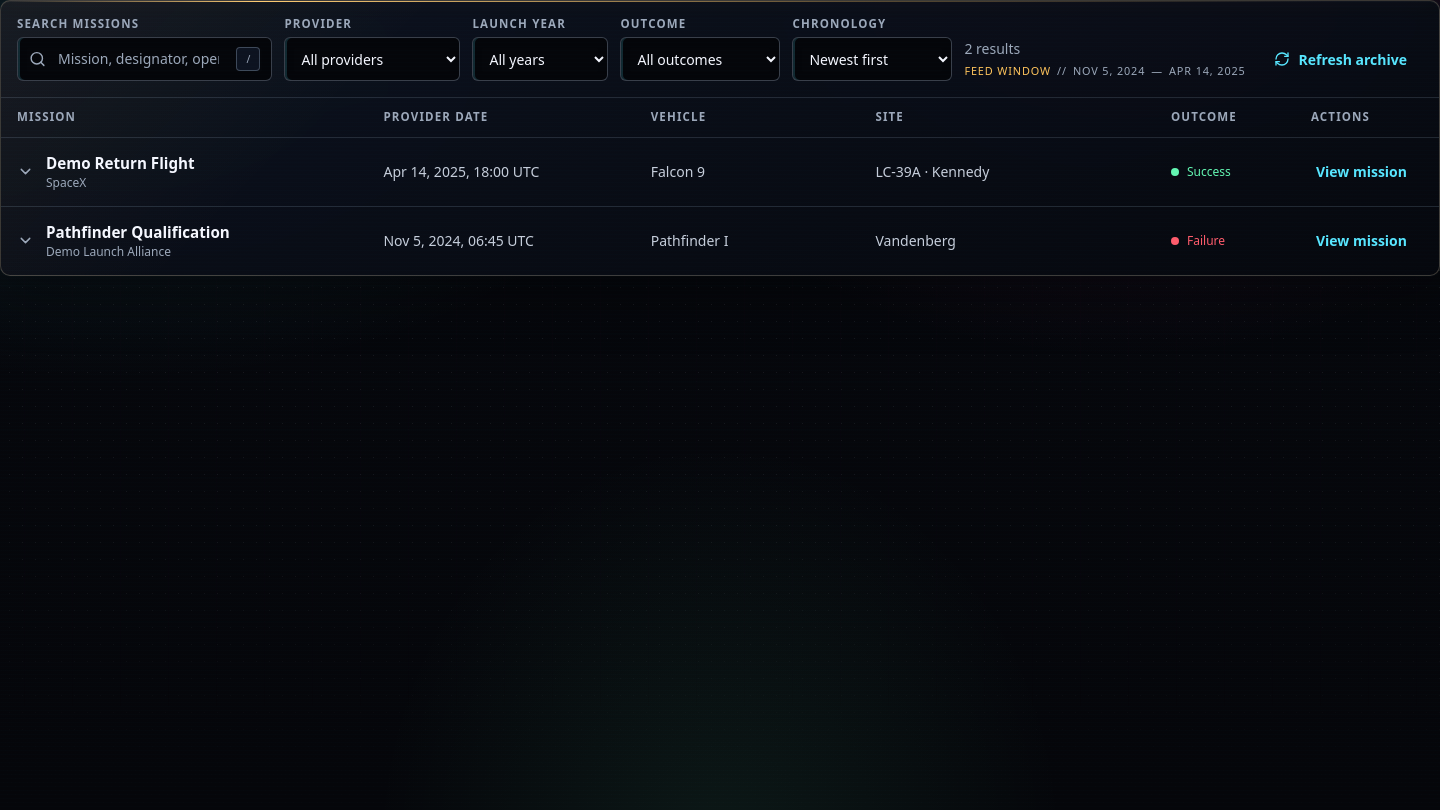
Test: PastLaunches › finds and exposes a provider launch designator without crowding collapsed rows
Type "2024F03" into the search field labelled "Search missions".
click(145, 59); type("2024F03")  # box [17,37,272,81]
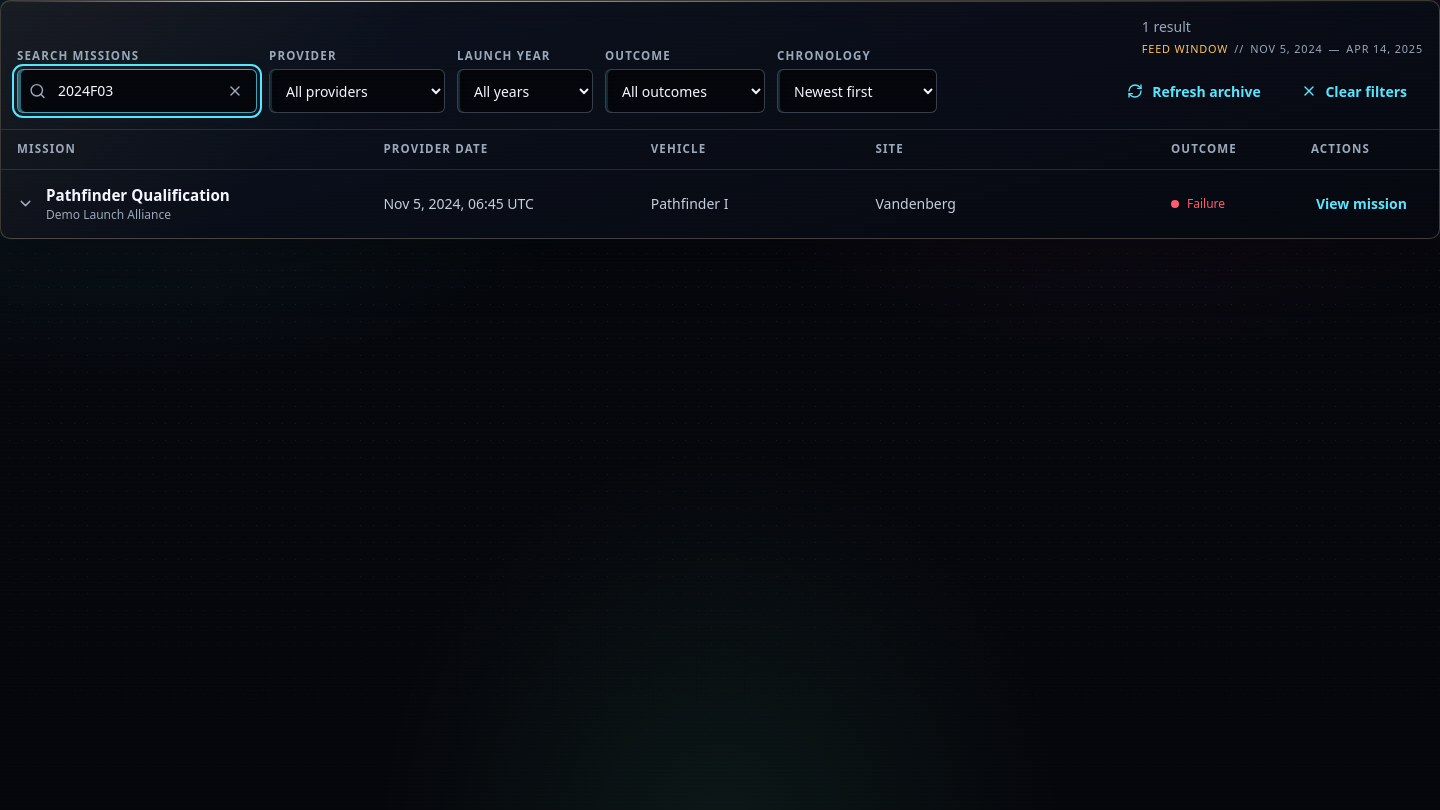
Expected: the text "Pathfinder Qualification" is shown, [46,185,230,205]
Expected: the button "Demo Return Flight" is gone
Click the button with aria-label "Show mission details for Pathfinder Qualification".
click(658, 204)  # box [17,182,1299,226]
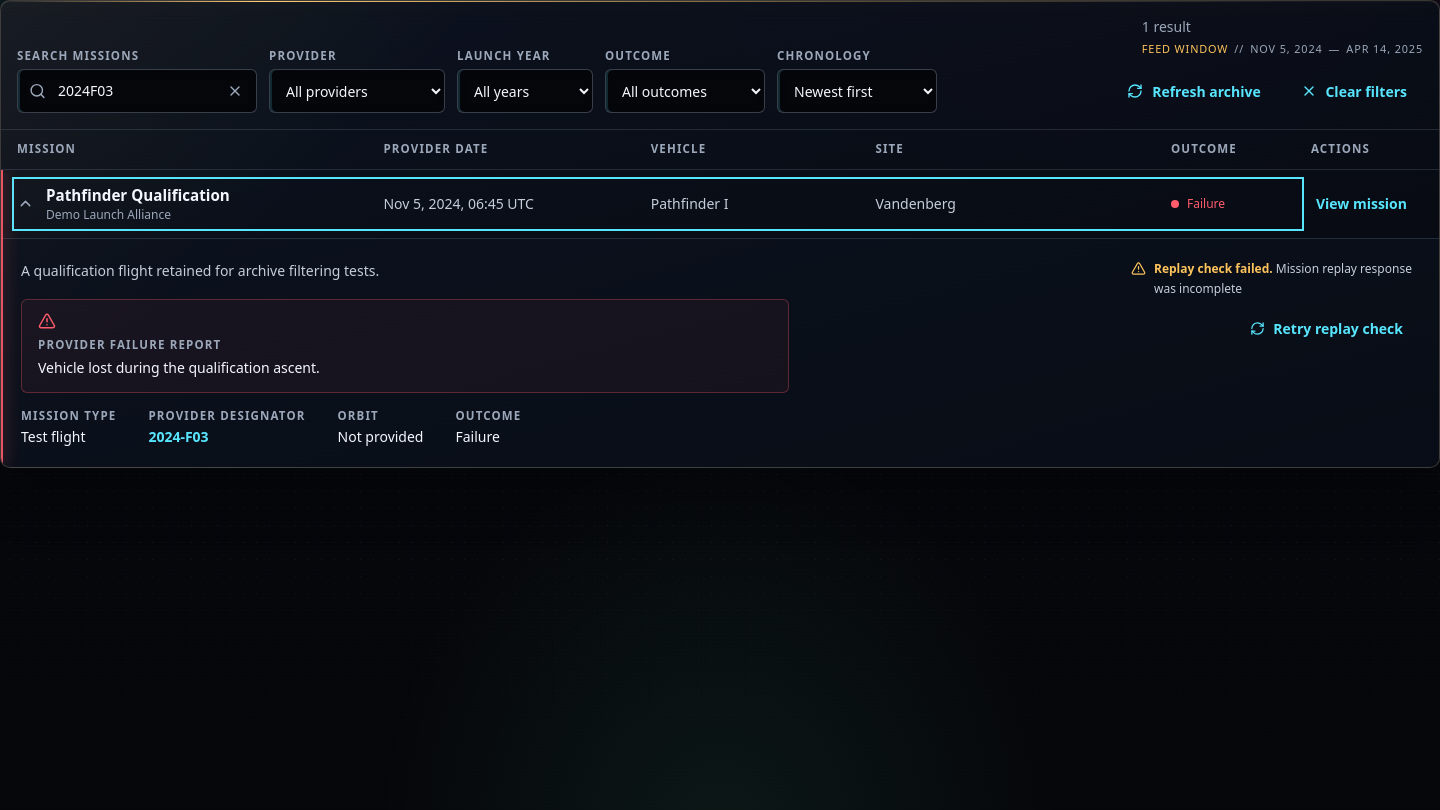
Expected: the text "Provider designator" is shown, [148,409,306,424]
Expected: the text "2024-F03" is shown, [148,428,209,446]
